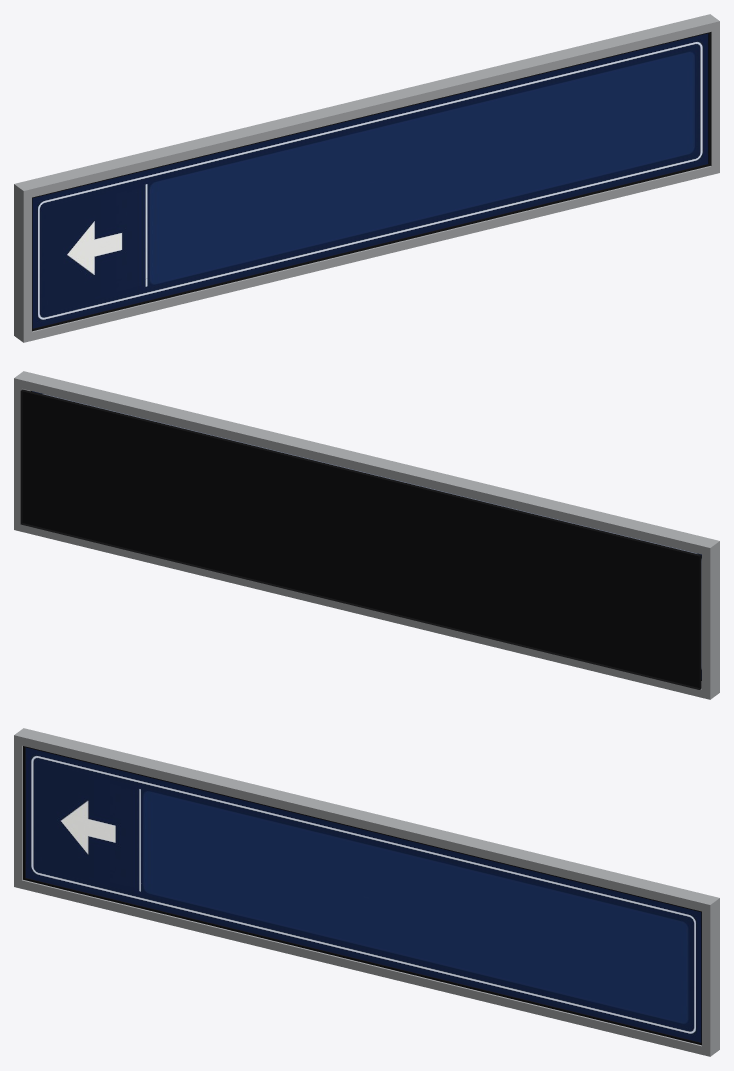
File: gteki_sign_wall_navy_long.glb
3 views of the same model, one above another, from view 1: azimuth 30°, elevation 25°; view 2: azimuth 150°, elevation 25°; view 3: azimuth 330°, elevation 25° (orthographic).
Parts seen in each view (by area): view 1: VIS_body; view 2: VIS_body; view 3: VIS_body.
Boxes of the visible parts, left/top/right/bottom form: VIS_body: left=14, top=14, right=719, bottom=342; VIS_body: left=14, top=371, right=719, bottom=699; VIS_body: left=14, top=728, right=719, bottom=1056.
Size of what is drawn, in the model's own units: 2.4 by 0.5 by 0.07.
2 materials, 2 textured.
